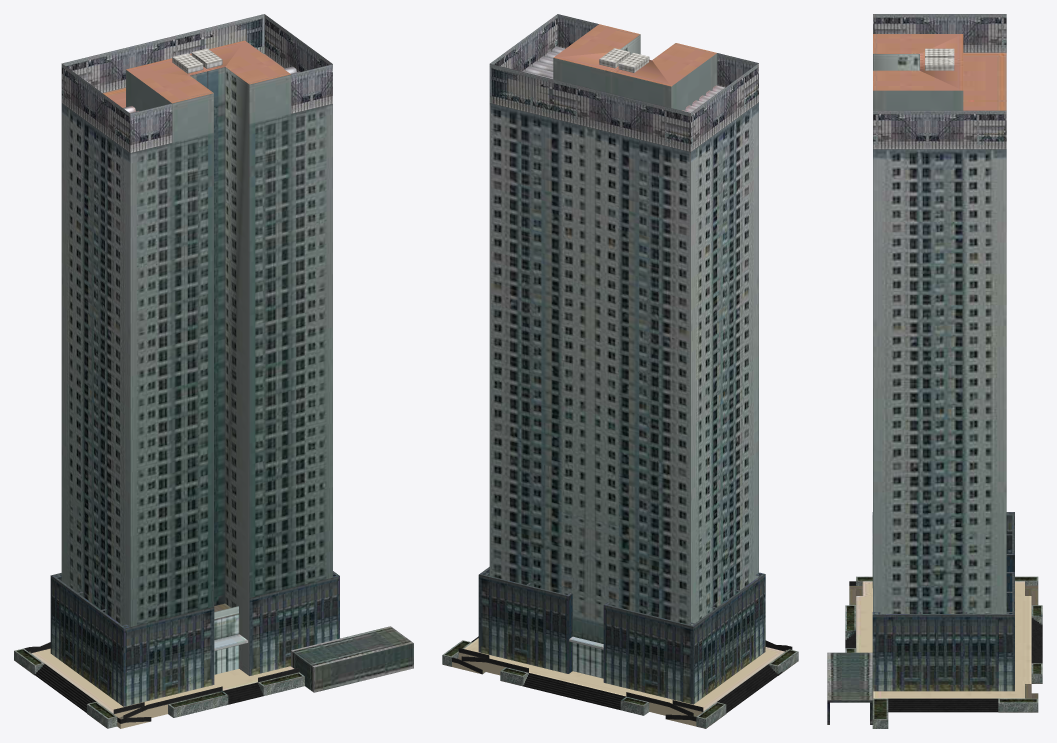
The picture shows the model from 3 angles, left to right: view 1: azimuth 30°, elevation 25°; view 2: azimuth 150°, elevation 25°; view 3: azimuth 270°, elevation 25°; orthographic projection. The views are drawn at different scales.
Parts seen in each view (by area): view 1: tz; view 2: tz; view 3: tz.
Boxes of the visible parts, x1,y1,x2,y2 form: tz: [14, 14, 413, 728]; tz: [442, 14, 798, 728]; tz: [827, 14, 1042, 728].
Size of the model in its own units: 70 by 135 by 44.57.
Materials: 1 (1 with a texture image).
